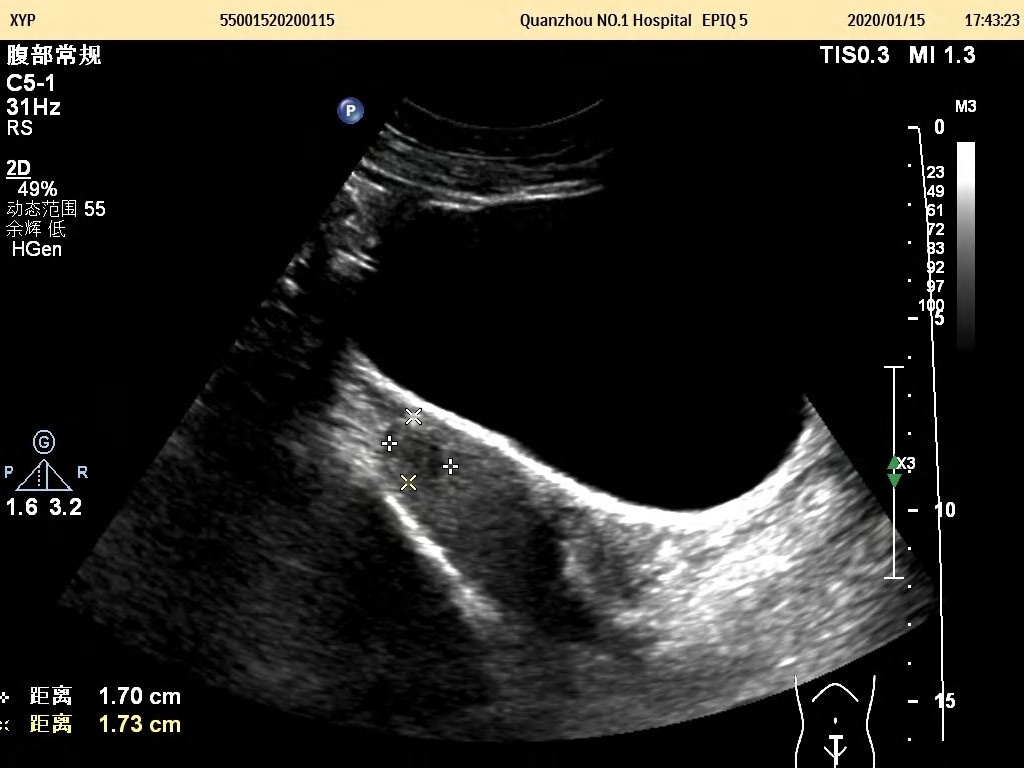肌瘤: (390, 417, 452, 485)
